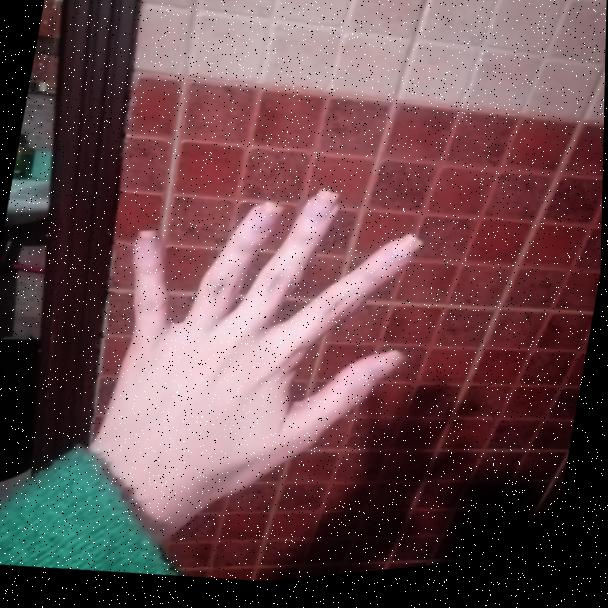five: (84, 150, 447, 505)
